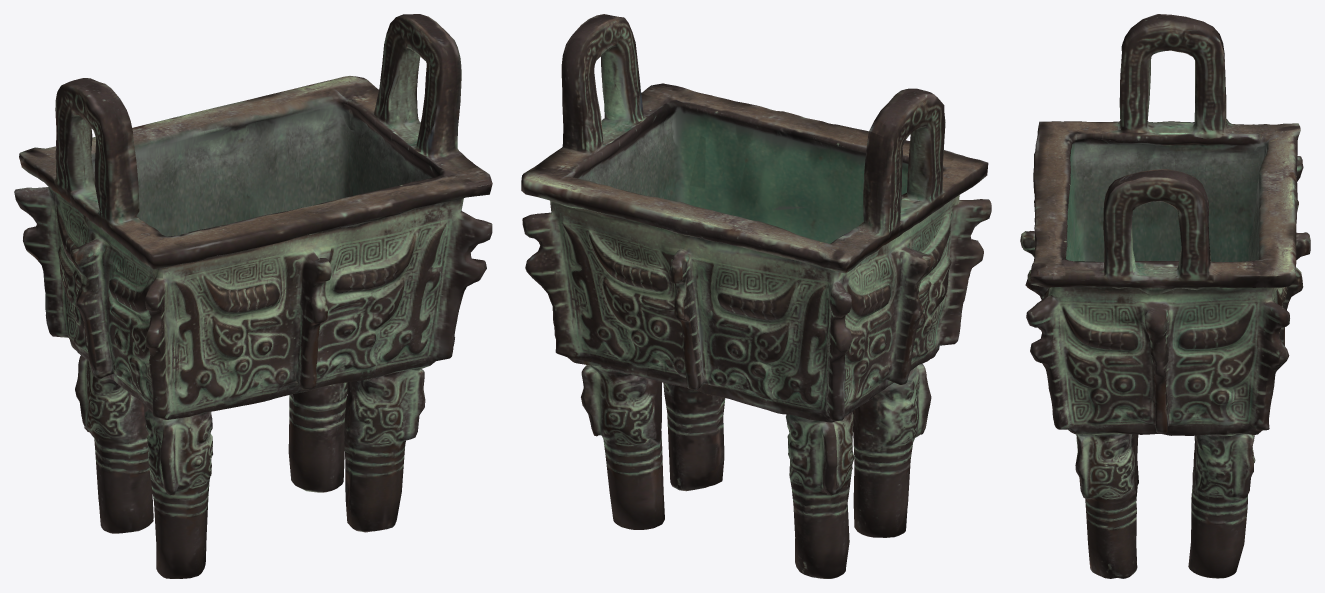
Rendered from ding.obj.
3 renders of one model, left to right at view 1: azimuth 30°, elevation 25°; view 2: azimuth 150°, elevation 25°; view 3: azimuth 270°, elevation 25°, orthographic. The views are drawn at different scales.
Visible parts, largest first — view 1: Group2; view 2: Group2; view 3: Group2.
Part boxes in pixels (x1,y1,x2,y2): Group2: (14, 14, 492, 578); Group2: (521, 14, 991, 578); Group2: (1020, 14, 1310, 578).
Bounding box in the file's own units: 11.3 × 14.14 × 8.42.
Materials: 1 (1 with a texture image).
